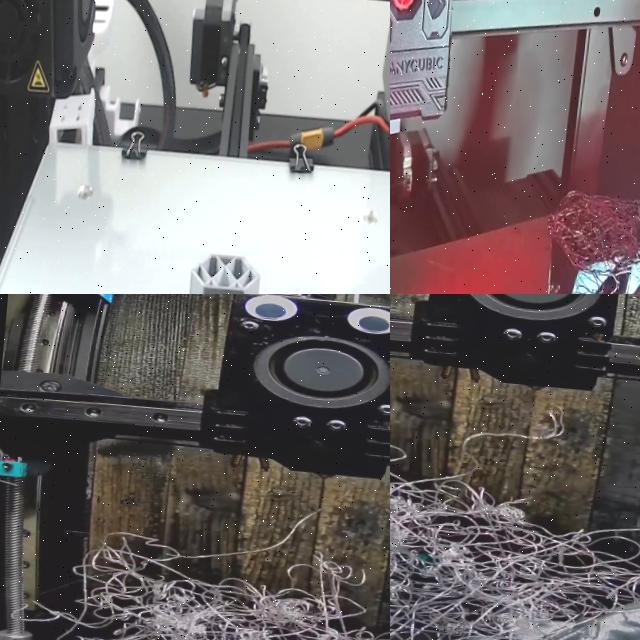spaghetti: (390, 411, 640, 640), (0, 512, 390, 640), (531, 168, 640, 294)
